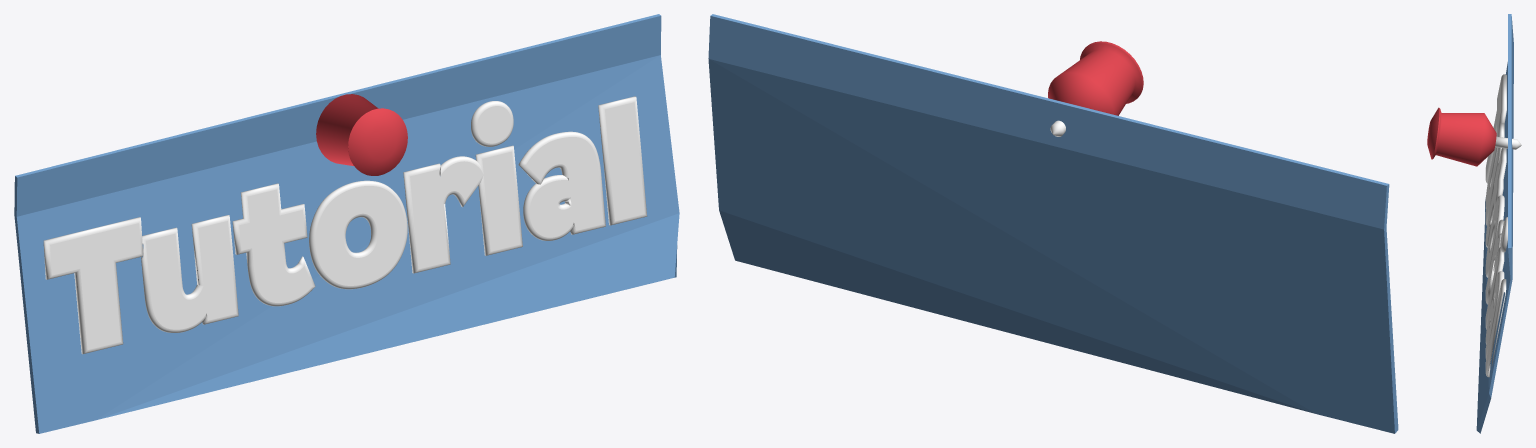
File: tutorial_button.fbx
The picture shows the model from 3 angles, left to right: view 1: azimuth 30°, elevation 25°; view 2: azimuth 150°, elevation 25°; view 3: azimuth 270°, elevation 25°; orthographic projection. The views are drawn at different scales.
Visible parts, largest first — view 1: SM_Prop_Note_04.001, Text.001, pin.003; view 2: SM_Prop_Note_04.001, pin.003; view 3: Text.001, SM_Prop_Note_04.001, pin.003.
Part boxes in pixels (x1,y1,x2,y2): SM_Prop_Note_04.001: (14,14,679,433); Text.001: (43,96,647,354); pin.003: (316,94,407,175); SM_Prop_Note_04.001: (708,14,1398,433); pin.003: (1048,41,1143,136); Text.001: (1485,74,1507,377); SM_Prop_Note_04.001: (1476,14,1513,433); pin.003: (1427,107,1521,166).
Bounding box in the file's own units: 314 × 126 × 52.33.
3 materials, 1 textured.
